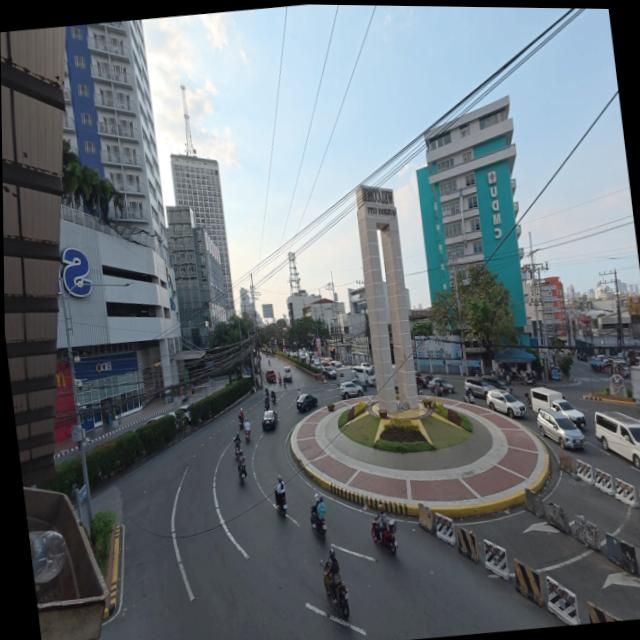car: (537, 409, 584, 450), (486, 389, 525, 418), (551, 398, 585, 429), (464, 377, 494, 399), (482, 376, 512, 394), (339, 381, 363, 399), (260, 409, 279, 431), (429, 377, 454, 393), (296, 394, 317, 412), (174, 406, 190, 425), (610, 360, 628, 376), (414, 372, 431, 388), (145, 414, 164, 425), (351, 379, 367, 390), (265, 370, 276, 383), (322, 367, 335, 378), (310, 358, 321, 369)
motorcycle: (319, 561, 349, 620), (371, 520, 396, 555), (310, 505, 326, 540), (273, 488, 286, 516), (237, 455, 246, 484), (233, 439, 241, 460), (522, 373, 534, 386), (463, 393, 474, 405), (263, 396, 270, 410), (525, 393, 531, 409), (237, 413, 243, 428), (244, 430, 249, 443), (181, 394, 188, 403), (271, 392, 275, 405), (282, 379, 286, 388)
trucks: (334, 366, 352, 386), (630, 365, 639, 404)
vans: (594, 413, 639, 469), (530, 388, 562, 413), (351, 366, 375, 385), (283, 367, 292, 381)
